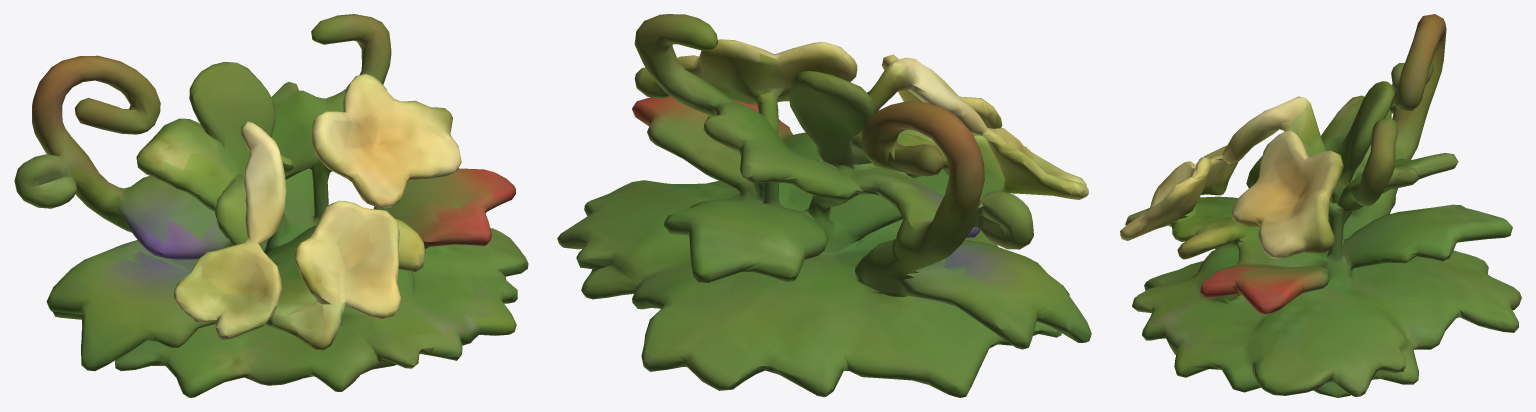
File: flores_amarillas.glb
The picture shows the model from 3 angles, left to right: view 1: azimuth 30°, elevation 25°; view 2: azimuth 150°, elevation 25°; view 3: azimuth 270°, elevation 25°; orthographic projection. The views are drawn at different scales.
Parts seen in each view (by area): view 1: flores_amarillas_malla; view 2: flores_amarillas_malla; view 3: flores_amarillas_malla.
Boxes of the visible parts, x1,y1,x2,y2 form: flores_amarillas_malla: [14, 14, 528, 397]; flores_amarillas_malla: [557, 14, 1091, 397]; flores_amarillas_malla: [1120, 14, 1521, 397].
Size of the model in its own units: 0.1185 by 0.0663 by 0.1021.
1 material, 1 textured.
